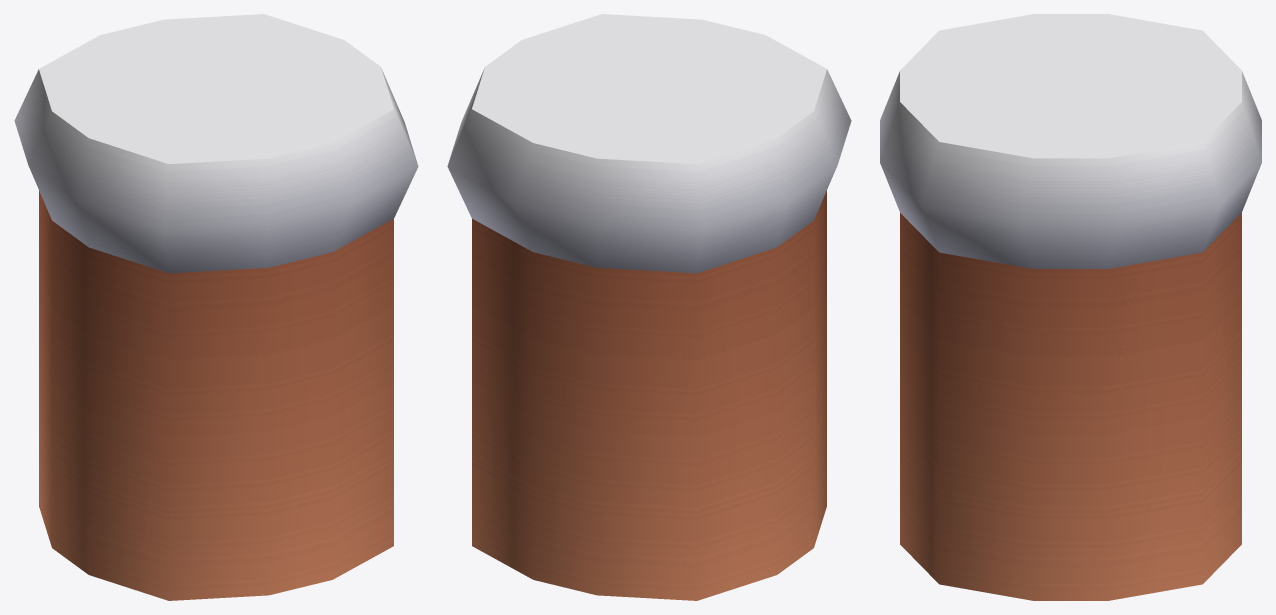
Rendered from block-snow-narrow.glb.
3 renders of one model, left to right at view 1: azimuth 30°, elevation 25°; view 2: azimuth 150°, elevation 25°; view 3: azimuth 270°, elevation 25°, orthographic.
Visible parts, largest first — view 1: block-snow-narrow; view 2: block-snow-narrow; view 3: block-snow-narrow.
Part boxes in pixels (x1,y1,x2,y2): block-snow-narrow: [14, 14, 418, 600]; block-snow-narrow: [447, 14, 851, 600]; block-snow-narrow: [880, 14, 1261, 600].
Size of the model in its own units: 0.7821 by 1 by 0.7821.
Materials: 1 (1 with a texture image).
